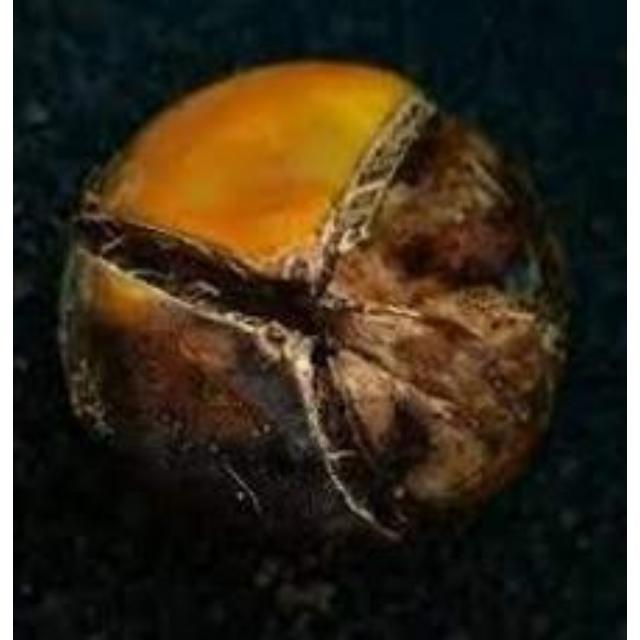damaged: (63, 59, 580, 545)
